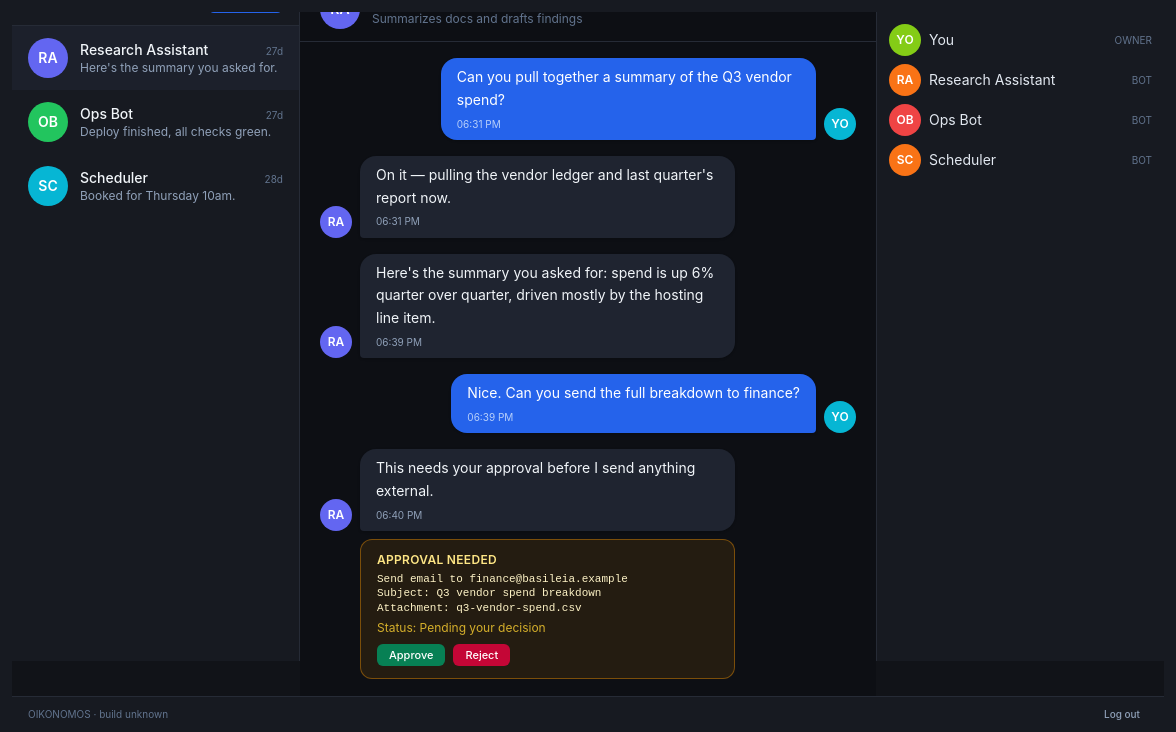
Scenario: ChatShell › switches conversation when a different bot is selected in the sidebar
(page scrolled)
Click the option "OB Ops Bot 27d Deploy finished, all checks green.".
click(156, 122)  # box left=12, top=90, right=299, bottom=154
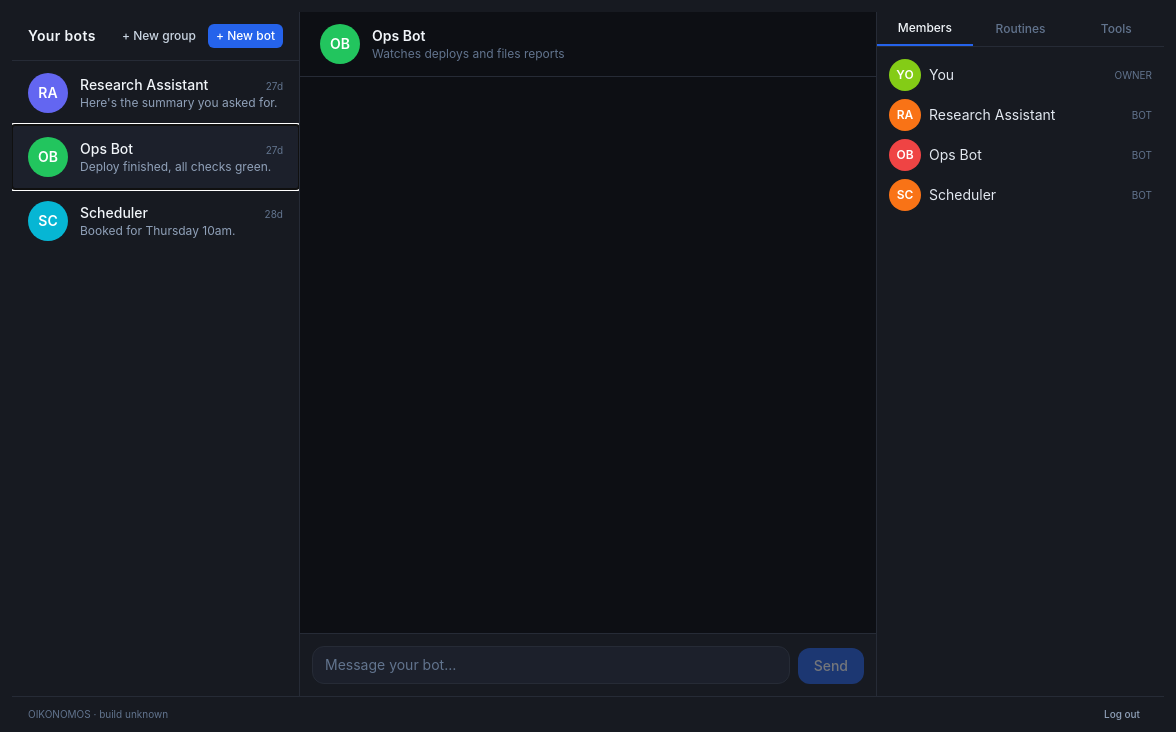
Check: the element named "Conversation with Ops Bot" is shown, box left=300, top=12, right=876, bottom=633
